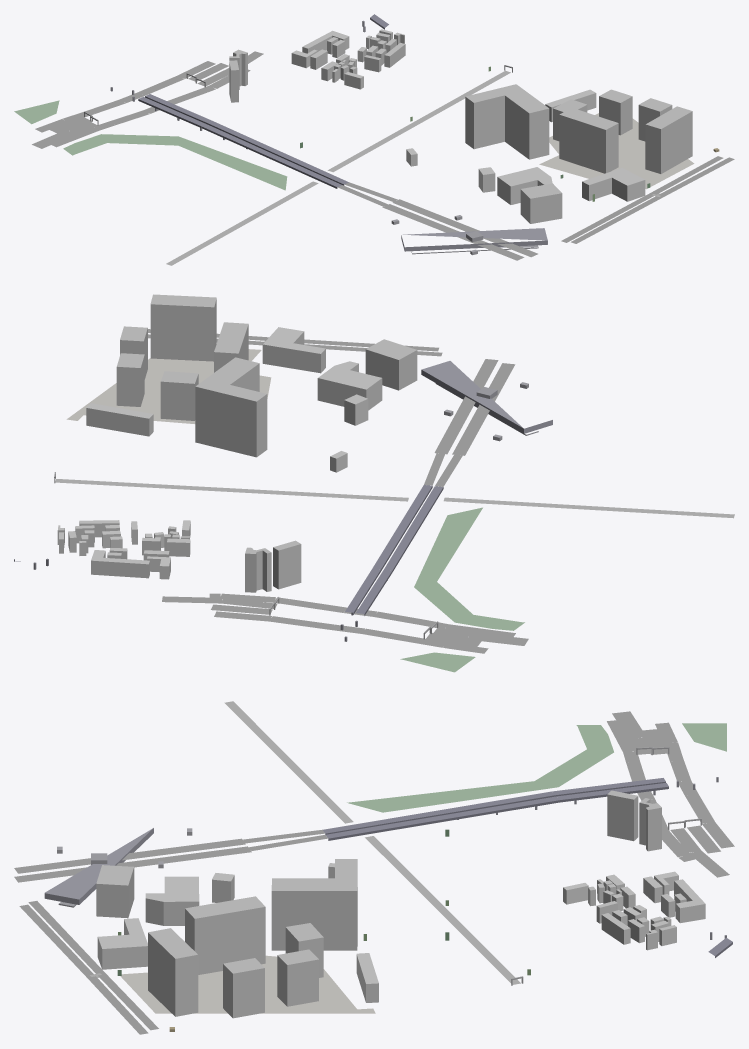
3 views of the same model, one above another, from view 1: azimuth 30°, elevation 25°; view 2: azimuth 150°, elevation 25°; view 3: azimuth 270°, elevation 25° (orthographic). The views are drawn at different scales.
Bounding box in the file's own units: 581 × 58.87 × 528.
